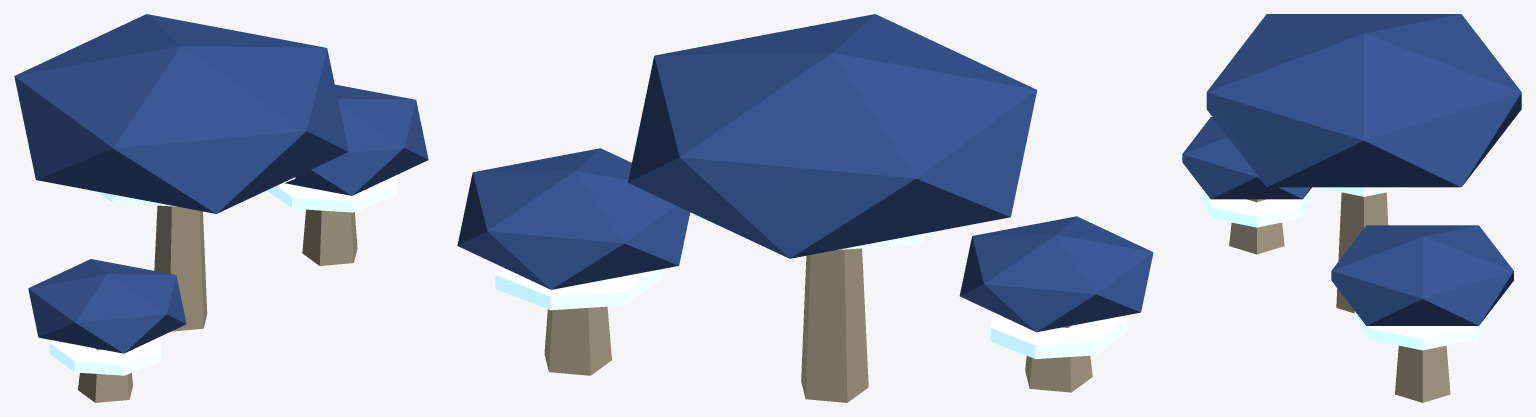
File: mooncap_cluster.glb
The picture shows the model from 3 angles, left to right: view 1: azimuth 30°, elevation 25°; view 2: azimuth 150°, elevation 25°; view 3: azimuth 270°, elevation 25°; orthographic projection. The views are drawn at different scales.
Parts seen in each view (by area): view 1: mooncap_cluster; view 2: mooncap_cluster; view 3: mooncap_cluster.
Part boxes in pixels (x1,y1,x2,y2): mooncap_cluster: [14, 14, 428, 402]; mooncap_cluster: [457, 14, 1153, 402]; mooncap_cluster: [1182, 14, 1521, 402].
Size of the model in its own units: 1.08 by 0.612 by 0.6964.
